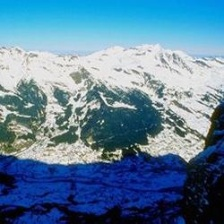neutral: (2, 16, 223, 224)
